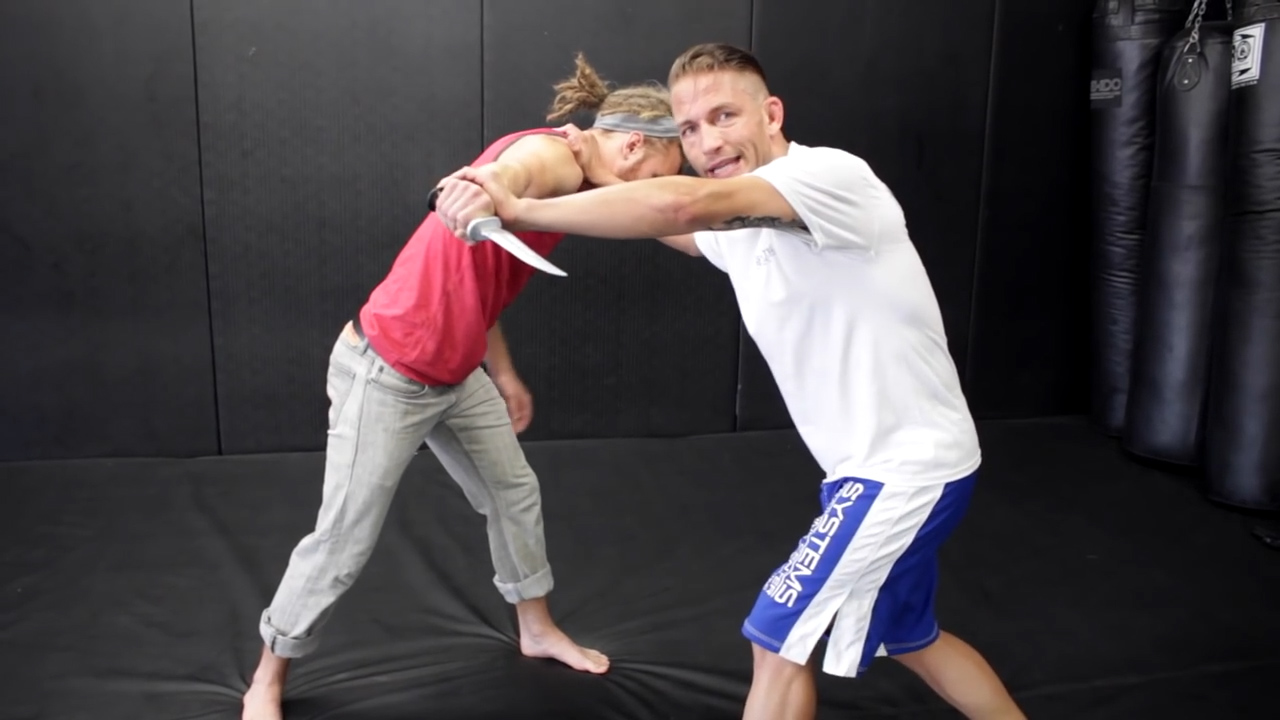knife: (422, 178, 576, 290)
